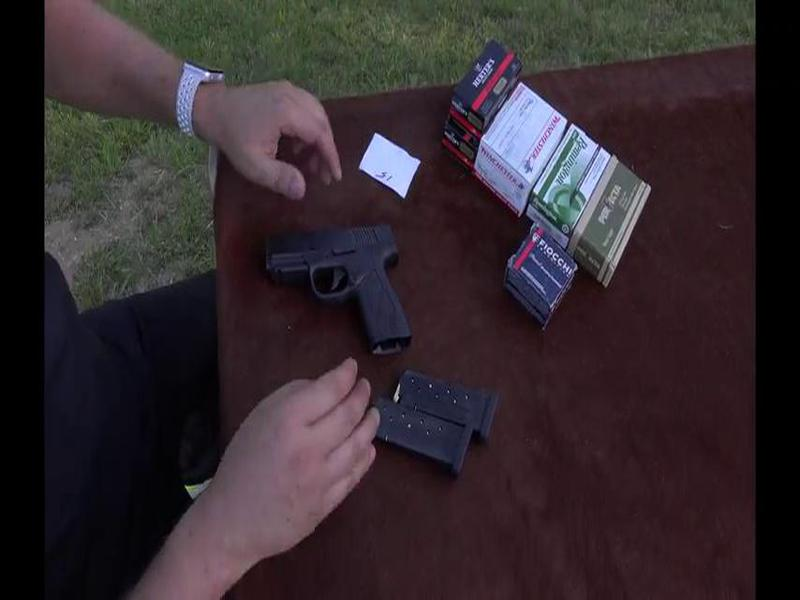Pistola: (263, 208, 422, 357)
